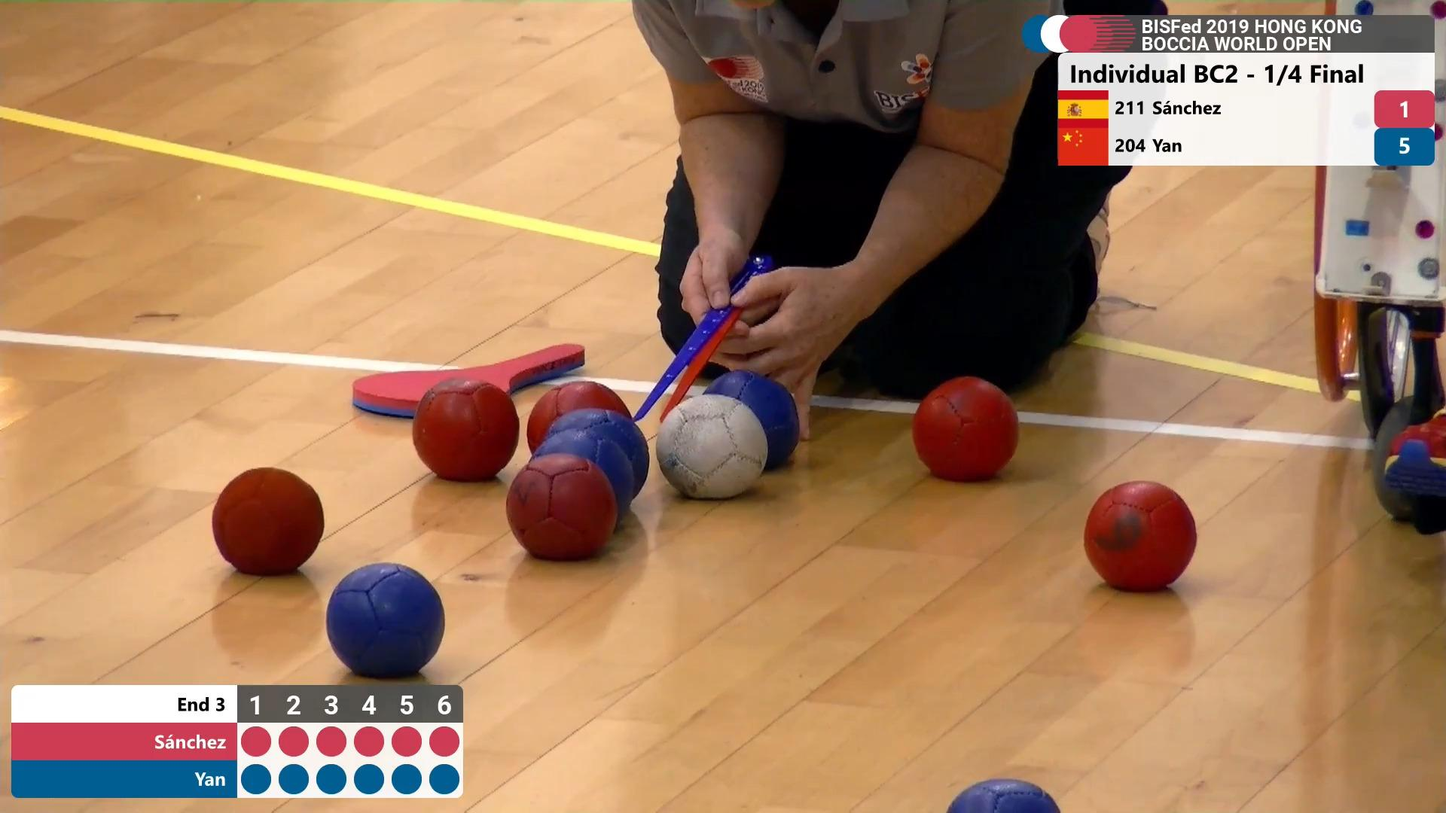blue_ball: (325, 560, 448, 681)
red_ball: (910, 369, 1024, 494), (1084, 476, 1201, 595), (508, 450, 624, 567), (208, 467, 327, 579), (411, 378, 524, 484)
white_ball: (660, 391, 770, 506)
